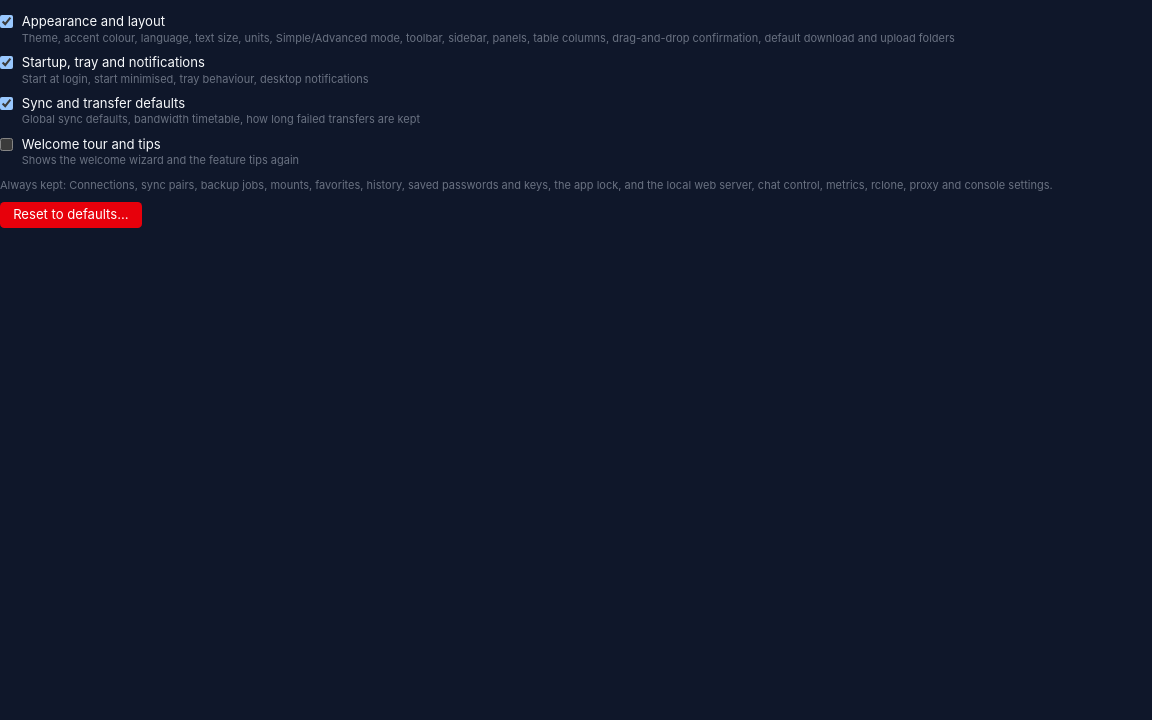
Test: Settings → Reset › resets the chosen scopes after confirming
Expected: the checkbox with test id "reset-scope-tips" is not checked, [0,138,13,151]
Step 1. Click the checkbox with test id "reset-scope-transfers" → (6, 104), box [0,97,13,110]
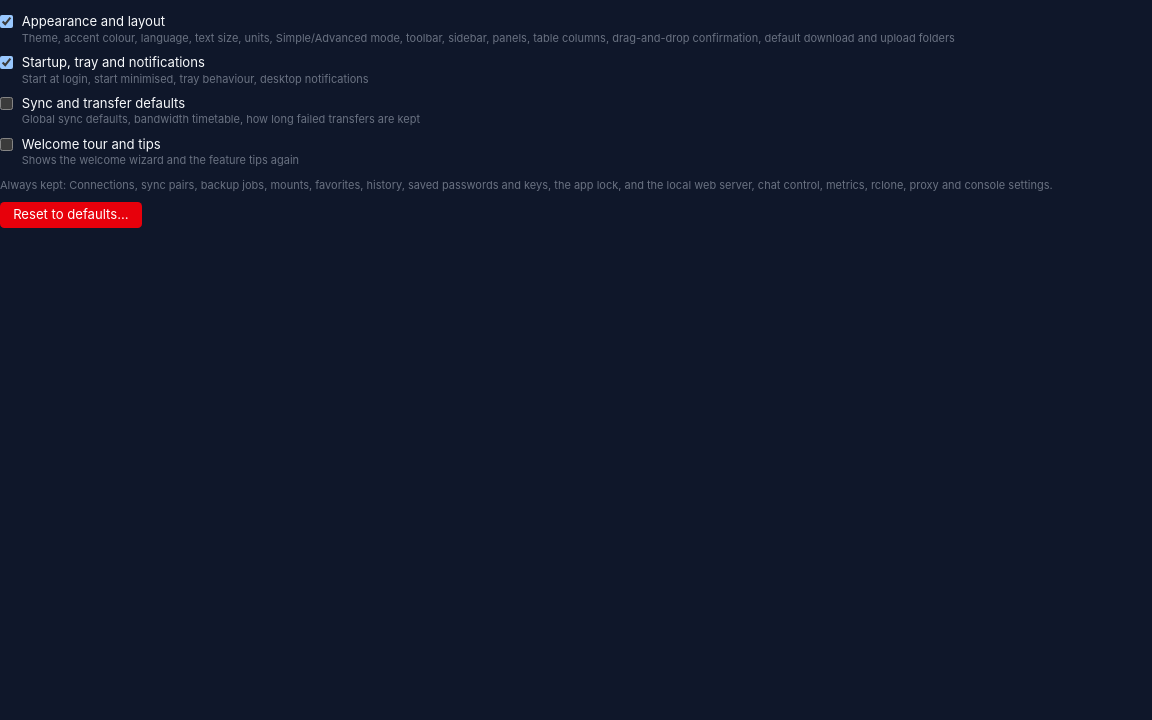
Step 2. Click the button with test id "reset-settings-button" → (71, 215), box [0,202,142,228]
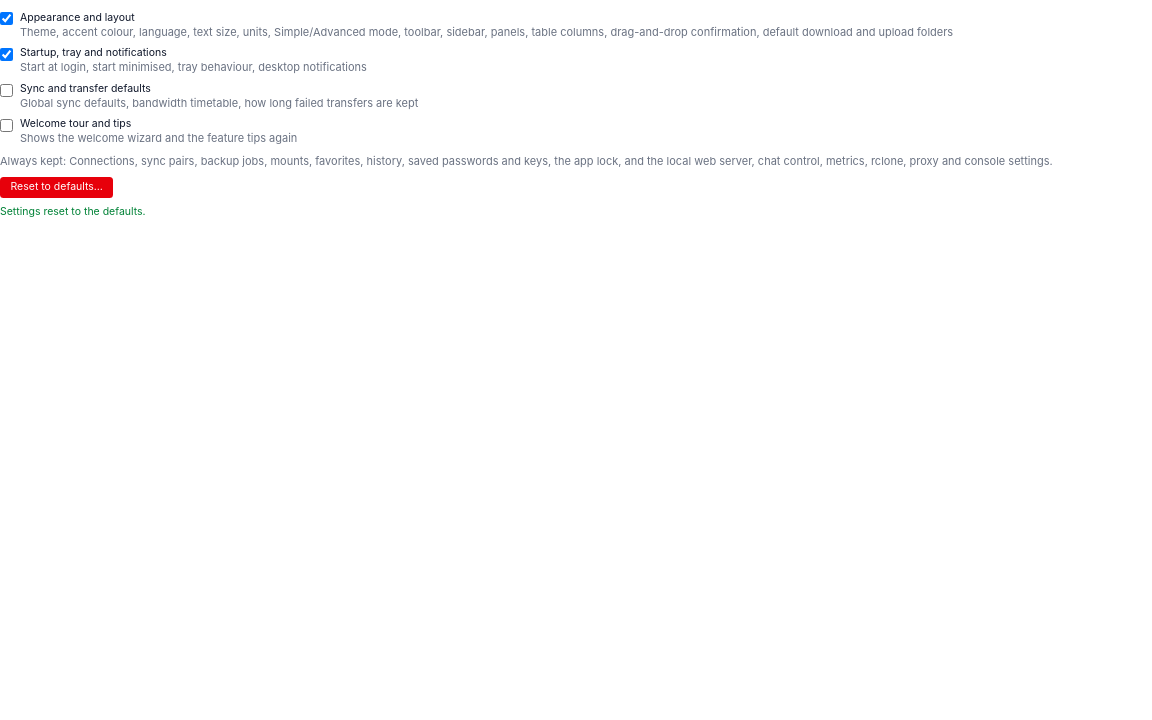
Expected: the text "Settings reset to the defaults." is shown, [0,205,146,218]
